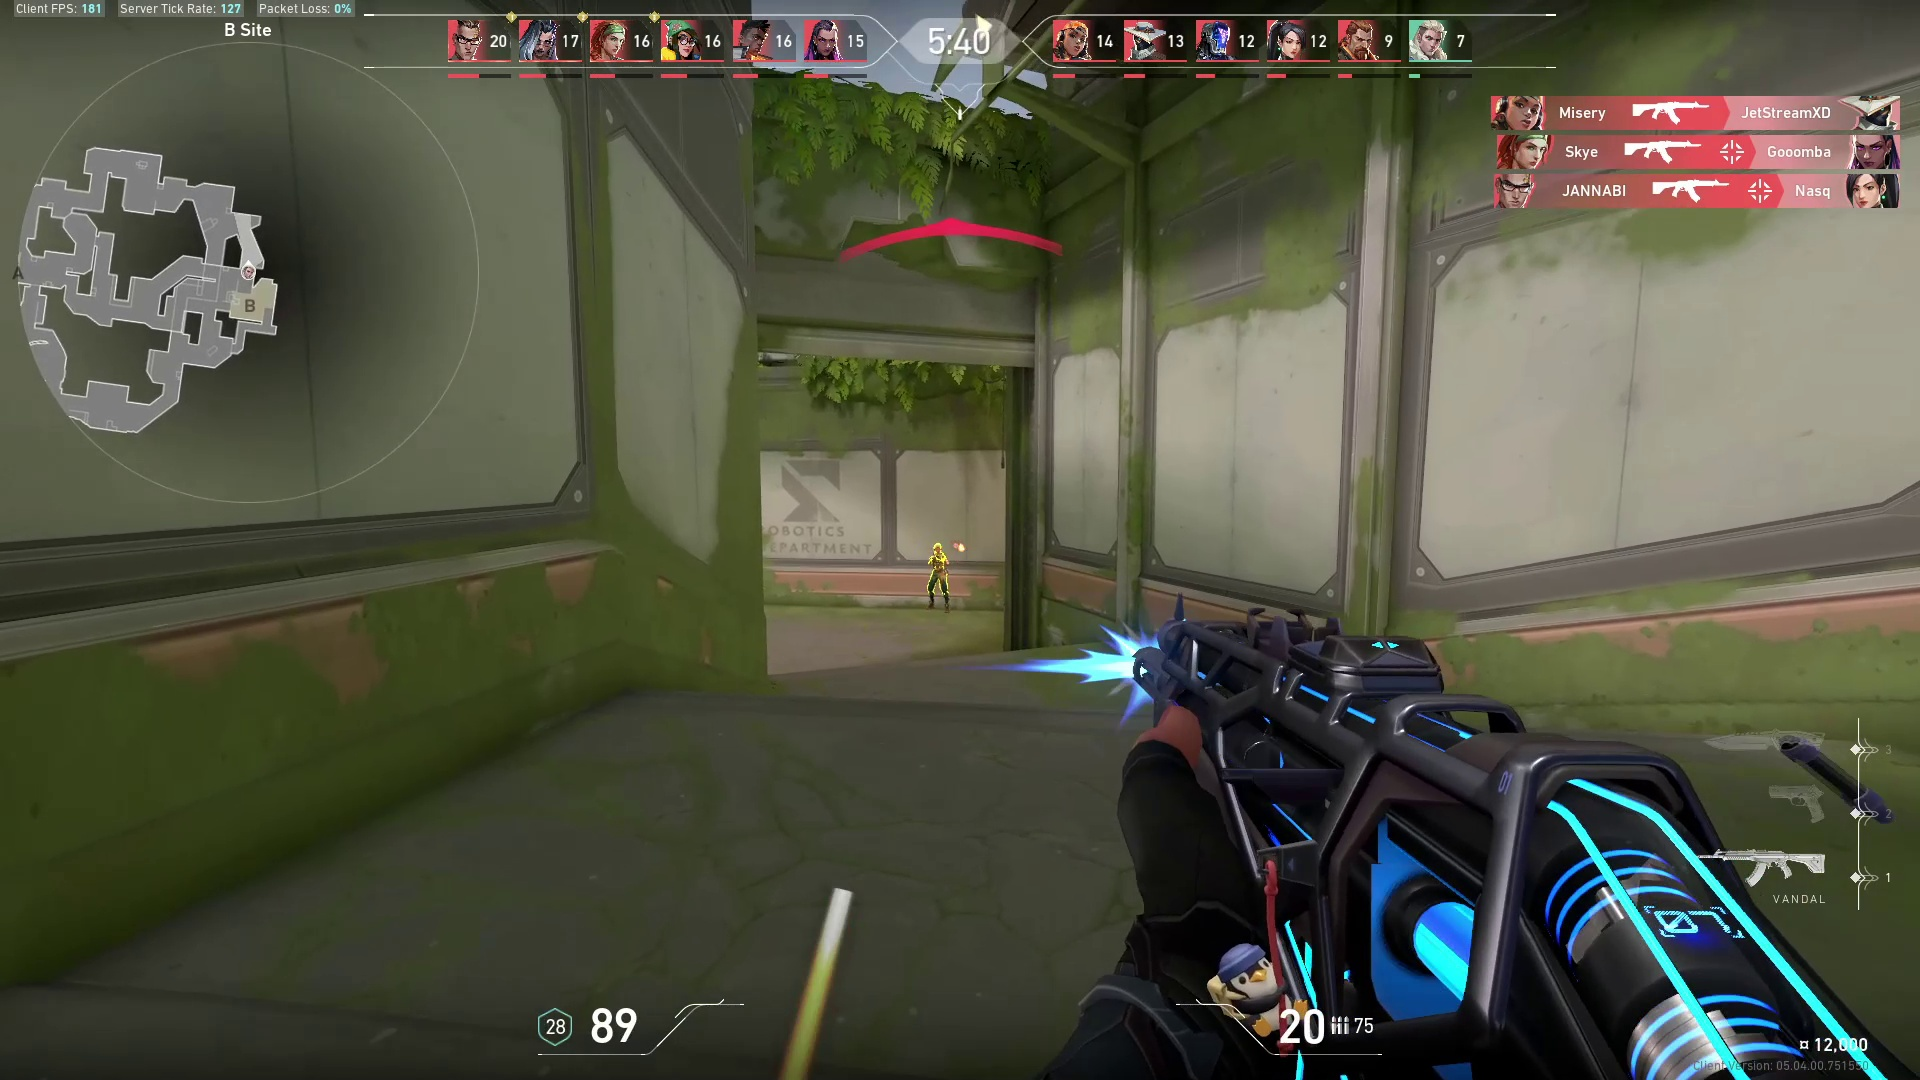enemy_body: (925, 554, 954, 614)
enemy_head: (931, 541, 943, 554)
